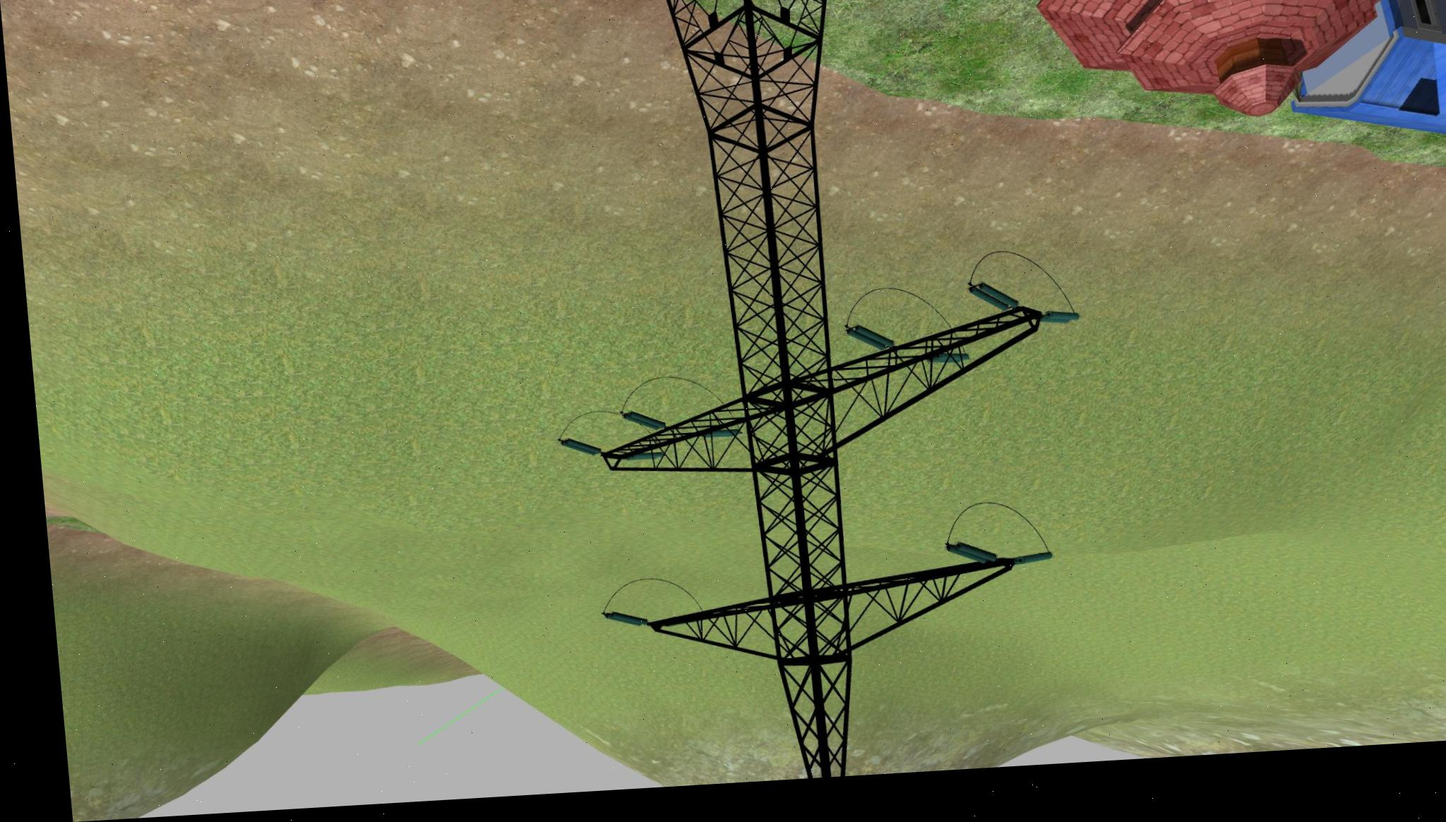tower: (554, 0, 1087, 789)
